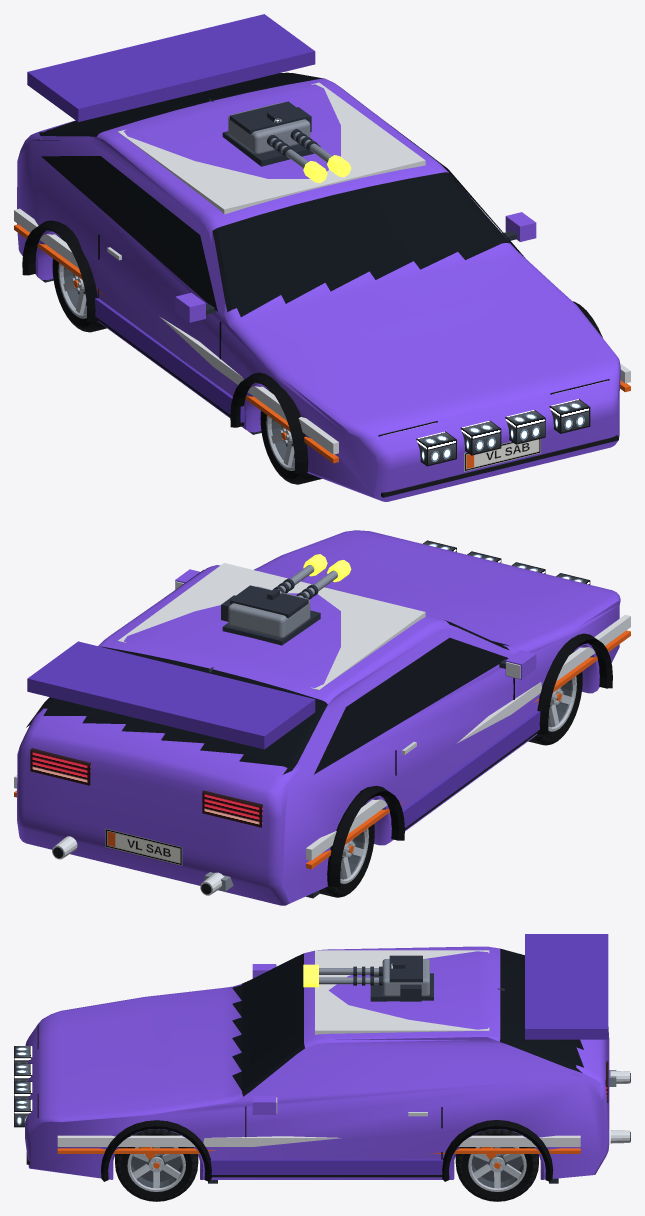
Rendered from sable_rs.glb.
The picture shows the model from 3 angles, top to bottom: view 1: azimuth 30°, elevation 25°; view 2: azimuth 150°, elevation 25°; view 3: azimuth 270°, elevation 25°; orthographic projection. The views are drawn at different scales.
Visible parts, largest first — view 1: chassis, gun, wheel_FR, wheel_RR; view 2: chassis, gun, wheel_RR, wheel_FR; view 3: chassis, wheel_RL, wheel_FL, gun.
Boxes of the visible parts, x1,y1,x2,y2 form: chassis: [14, 14, 630, 501]; gun: [228, 101, 351, 183]; wheel_FR: [260, 390, 322, 484]; wheel_RR: [52, 238, 106, 332]; chassis: [14, 530, 630, 905]; gun: [221, 554, 351, 638]; wheel_RR: [319, 803, 374, 897]; wheel_FR: [528, 651, 582, 745]; chassis: [14, 934, 630, 1183]; wheel_RL: [455, 1129, 538, 1201]; wheel_FL: [115, 1129, 198, 1201]; gun: [303, 955, 429, 1001].
Bounding box in the file's own units: 2.34 × 1.46 × 4.4.
20 materials, 5 textured.
